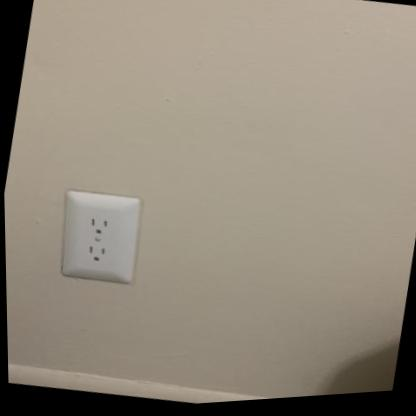OUTLET: (51, 185, 145, 289)
